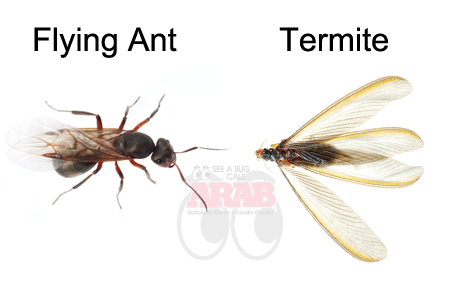flying termite: (251, 73, 432, 270)
